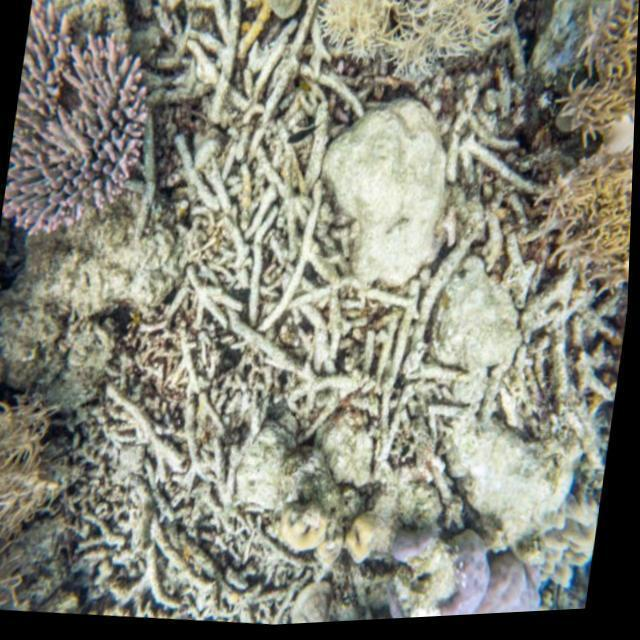Dead Coral: (61, 28, 583, 619)
